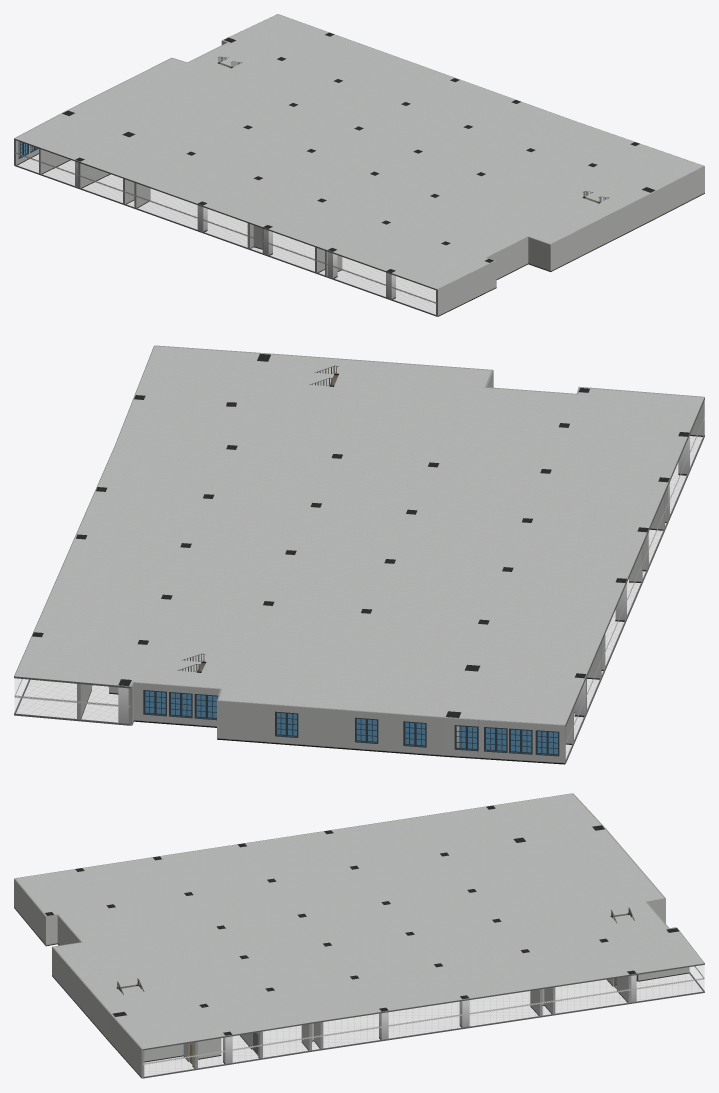
The model's file is Unity2GLTF.gltf.
3 views of the same model, one above another, from view 1: azimuth 30°, elevation 25°; view 2: azimuth 150°, elevation 25°; view 3: azimuth 270°, elevation 25° (orthographic). The views are drawn at different scales.
Parts seen in each view (by area): view 1: node_CombineRoof_-1238716, node_CombineStraightWall_-1238668, node_CombineFloor_-1238692, node_CombinePrefabWall_-1238680; view 2: node_CombineRoof_-1238716, node_CombineStraightWall_-1238668, node_CombineFloor_-1238692, node_CombinePrefabWall_-1238680; view 3: node_CombineRoof_-1238716, node_CombineFloor_-1238692, node_CombineStraightWall_-1238668, node_CombinePrefabWall_-1238680.
Boxes of the visible parts, x1,y1,x2,y2 form: node_CombineRoof_-1238716: [15, 14, 703, 288]; node_CombineStraightWall_-1238668: [14, 40, 704, 316]; node_CombineFloor_-1238692: [17, 154, 435, 314]; node_CombinePrefabWall_-1238680: [14, 14, 703, 316]; node_CombineRoof_-1238716: [15, 346, 703, 724]; node_CombineStraightWall_-1238668: [77, 345, 704, 764]; node_CombineFloor_-1238692: [16, 436, 702, 759]; node_CombinePrefabWall_-1238680: [14, 346, 704, 763]; node_CombineRoof_-1238716: [15, 793, 704, 1048]; node_CombineFloor_-1238692: [144, 973, 702, 1076]; node_CombineStraightWall_-1238668: [14, 793, 689, 1078]; node_CombinePrefabWall_-1238680: [16, 793, 704, 1078].
Bounding box in the file's own units: 56.22 × 3.65 × 64.14.
Materials: 245 (236 with a texture image).
